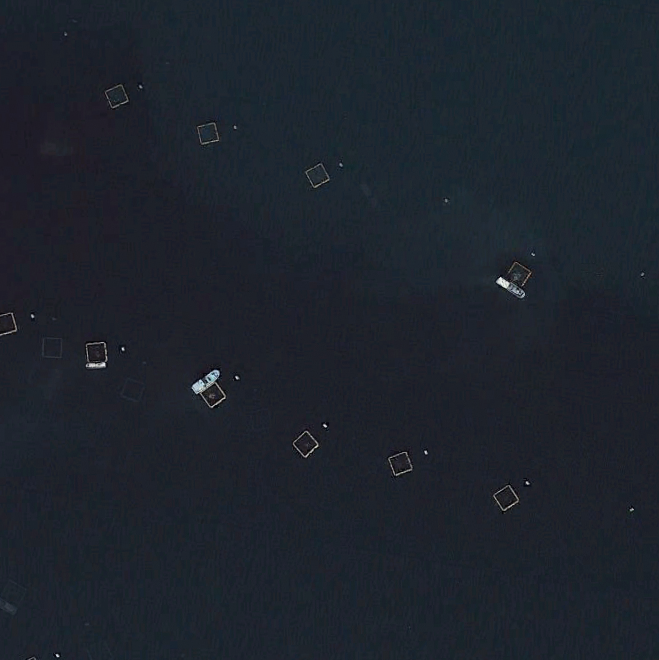ship: (186, 365, 221, 396), (494, 273, 530, 303), (84, 360, 109, 371)
square: (293, 152, 339, 198), (190, 371, 239, 414), (99, 75, 143, 122), (492, 252, 538, 293), (483, 484, 538, 517), (179, 114, 224, 150), (287, 419, 328, 457), (381, 444, 420, 480), (78, 332, 111, 371), (33, 330, 67, 365), (119, 372, 153, 407), (1, 305, 32, 340)
